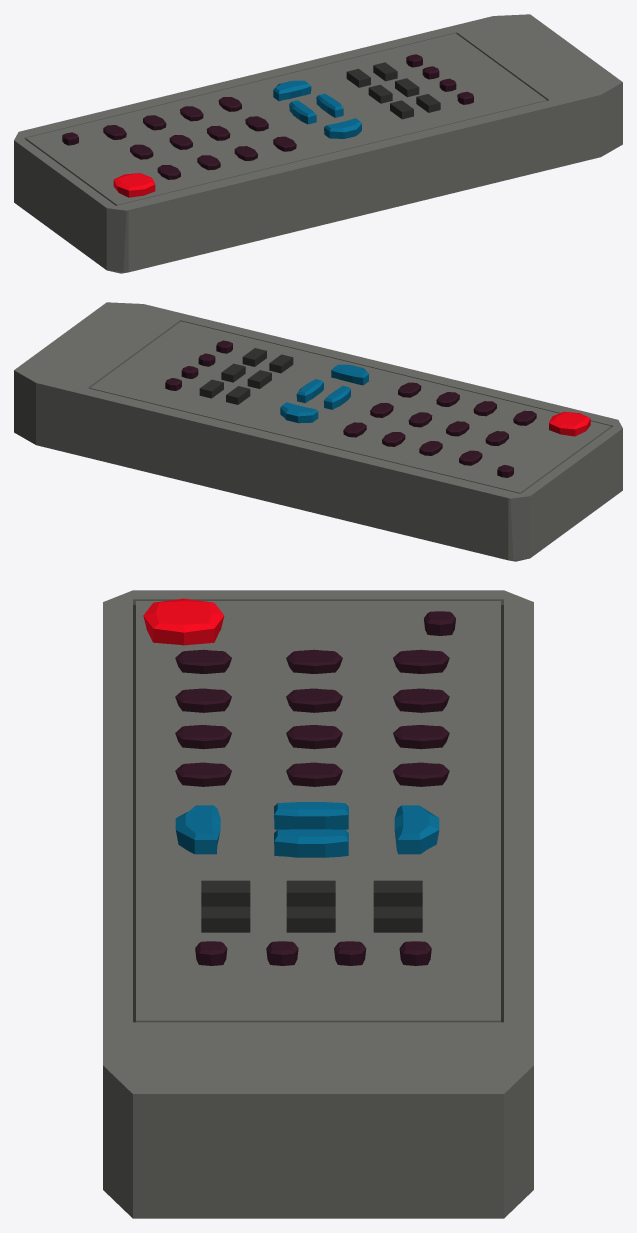
File: Fernbedienung.fbx
The picture shows the model from 3 angles, top to bottom: view 1: azimuth 30°, elevation 25°; view 2: azimuth 150°, elevation 25°; view 3: azimuth 270°, elevation 25°; orthographic projection. The views are drawn at different scales.
Visible parts, largest first — view 1: Cube, Cube.003, Cube.004, Cube.006, Cube.005, Cube.001, Cube.007; view 2: Cube, Cube.003, Cube.004, Cube.006, Cube.005, Cube.001, Cube.007; view 3: Cube, Cube.003, Cube.004, Cube.006, Cube.005, Cube.001, Cube.007.
Boxes of the visible parts, bbox=[...] form: Cube: bbox=[14, 14, 622, 273]; Cube.003: bbox=[103, 97, 296, 179]; Cube.004: bbox=[273, 80, 361, 138]; Cube.006: bbox=[373, 62, 440, 112]; Cube.005: bbox=[346, 68, 413, 119]; Cube.001: bbox=[113, 173, 155, 197]; Cube.007: bbox=[406, 54, 473, 104]; Cube: bbox=[14, 302, 622, 561]; Cube.003: bbox=[343, 382, 536, 465]; Cube.004: bbox=[280, 364, 368, 423]; Cube.006: bbox=[199, 348, 266, 398]; Cube.005: bbox=[226, 354, 293, 404]; Cube.001: bbox=[549, 411, 590, 436]; Cube.007: bbox=[165, 340, 232, 390]; Cube: bbox=[103, 590, 533, 1218]; Cube.003: bbox=[175, 649, 449, 786]; Cube.004: bbox=[175, 802, 439, 857]; Cube.006: bbox=[201, 906, 422, 932]; Cube.005: bbox=[201, 880, 422, 906]; Cube.001: bbox=[143, 598, 224, 645]; Cube.007: bbox=[195, 941, 431, 965].
Size of the model in its own units: 823 by 120 by 298.
